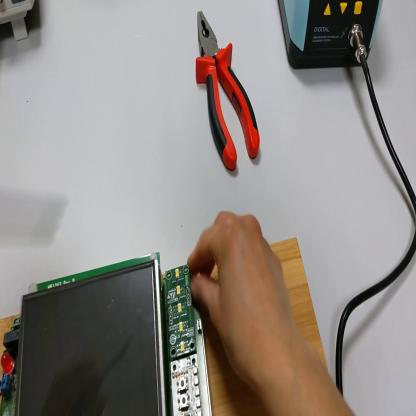hand: (185, 203, 298, 389)
low voltage board: (2, 244, 208, 414)
oscilloscope: (2, 1, 36, 42)
pliers: (193, 11, 263, 174)
welder station: (279, 1, 385, 72)
working area: (10, 236, 333, 416)
